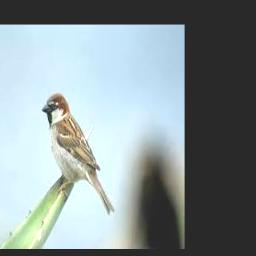Sparrow: (43, 92, 115, 214)
